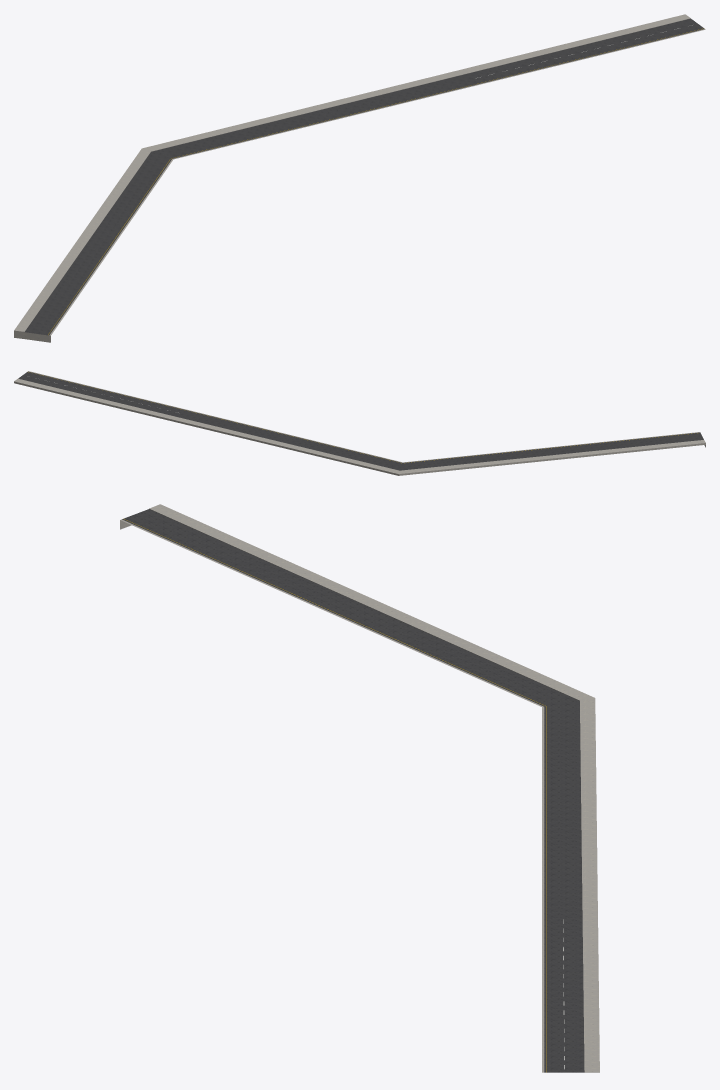
File: SM_MoloItalia_Suolo.fbx
3 views of the same model, one above another, from view 1: azimuth 30°, elevation 25°; view 2: azimuth 150°, elevation 25°; view 3: azimuth 270°, elevation 25° (orthographic). The views are drawn at different scales.
Visible parts, largest first — view 1: SM_MoloItalia_Suolo; view 2: SM_MoloItalia_Suolo; view 3: SM_MoloItalia_Suolo.
Part boxes in pixels (bbox=[...]): SM_MoloItalia_Suolo: bbox=[14, 14, 705, 342]; SM_MoloItalia_Suolo: bbox=[14, 371, 705, 475]; SM_MoloItalia_Suolo: bbox=[120, 504, 599, 1072].
Size of what is drawn, in the model's own units: 37422 by 13360 by 312.
3 materials, 3 textured.
